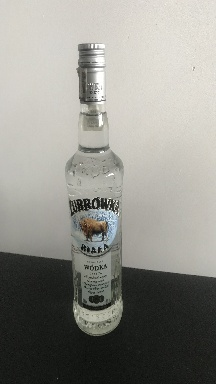butelka: (63, 40, 125, 338)
